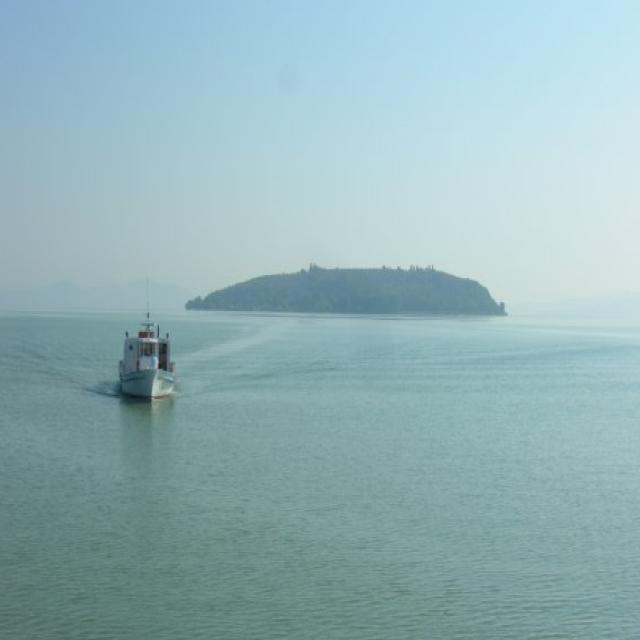houseboat: (111, 286, 182, 403)
island: (182, 254, 508, 320)
